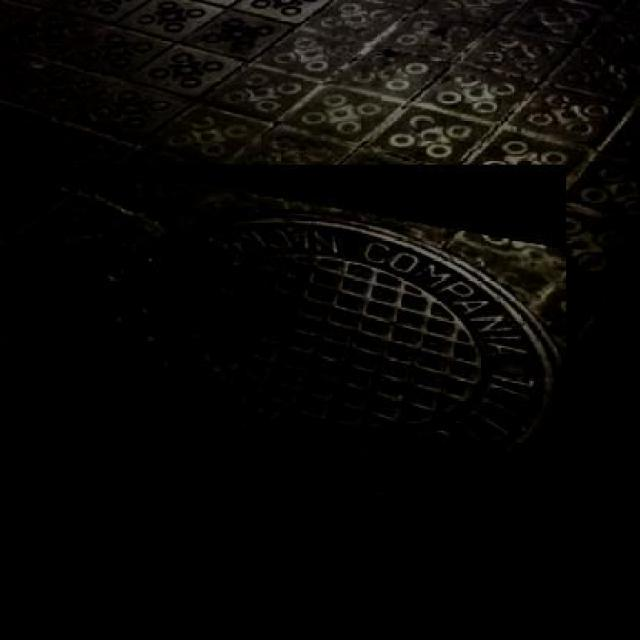Manhole: (90, 166, 566, 452)
